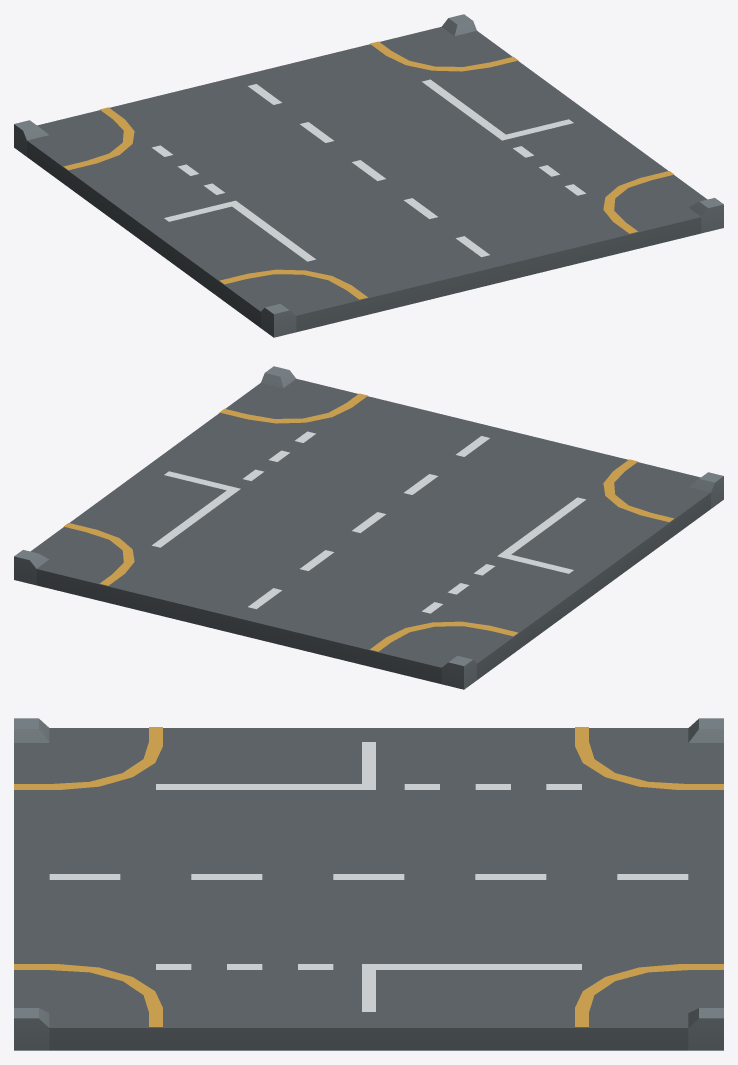
Rendered from road_junction.obj.
3 views of the same model, one above another, from view 1: azimuth 30°, elevation 25°; view 2: azimuth 150°, elevation 25°; view 3: azimuth 270°, elevation 25° (orthographic). The views are drawn at different scales.
Size of the model in its own units: 2 by 0.1 by 2.
1 material, 1 textured.
